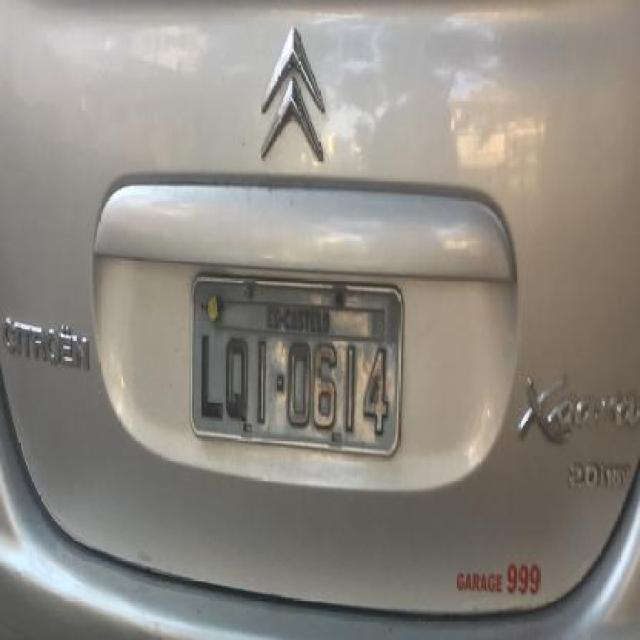old_plate: (179, 270, 410, 466)
